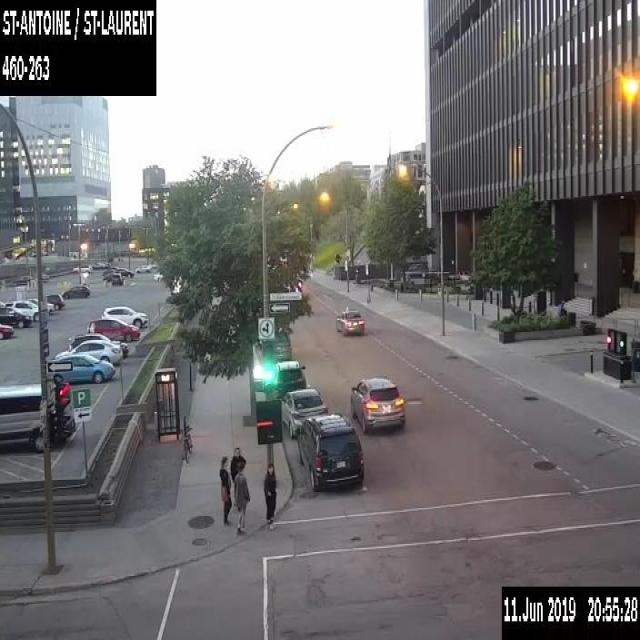pedestrian: (233, 461, 250, 533), (230, 446, 246, 510), (218, 455, 232, 524), (263, 462, 276, 529)
vehicle: (296, 411, 363, 491), (0, 382, 75, 452), (350, 376, 404, 433), (279, 388, 327, 438), (50, 352, 115, 384), (55, 338, 122, 364), (68, 332, 128, 356), (86, 318, 140, 342), (273, 360, 306, 398), (101, 304, 148, 328), (0, 300, 38, 320), (334, 308, 364, 333), (271, 326, 291, 360), (0, 306, 31, 327), (26, 297, 53, 314), (400, 262, 428, 277), (43, 292, 65, 309), (61, 285, 89, 297), (72, 262, 91, 274), (0, 322, 14, 338), (114, 266, 134, 277), (103, 272, 125, 280), (101, 265, 118, 274), (112, 272, 124, 284), (152, 270, 164, 282), (135, 264, 150, 272), (91, 261, 104, 268)
